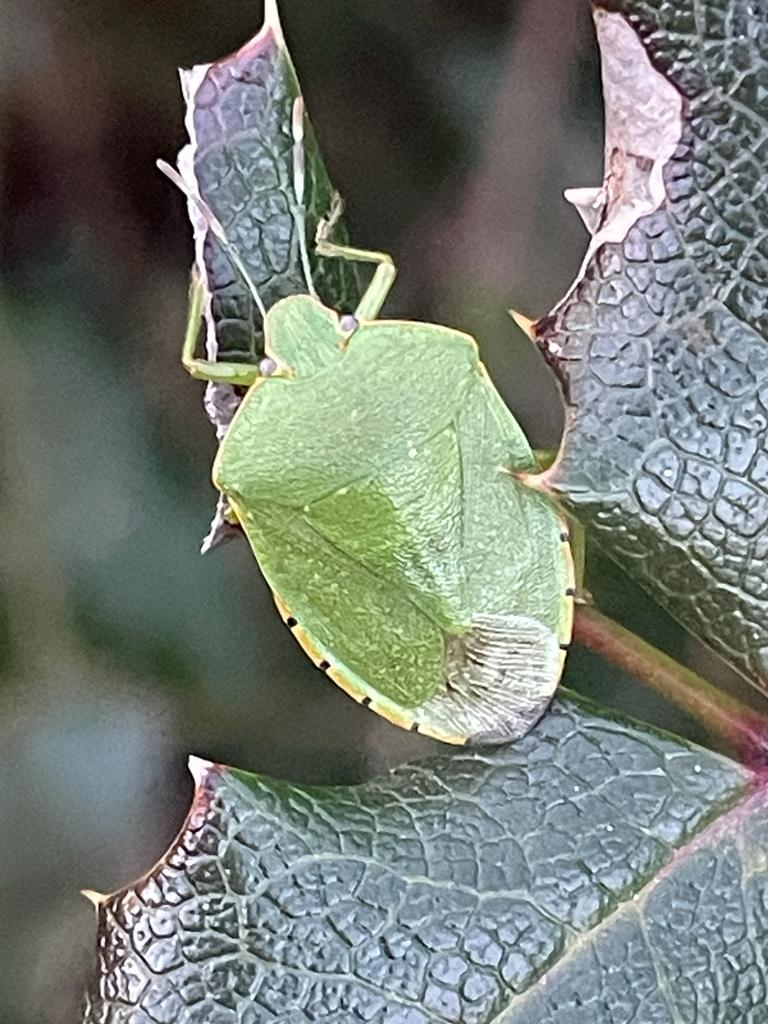stink_bugs: (39, 61, 731, 869)
